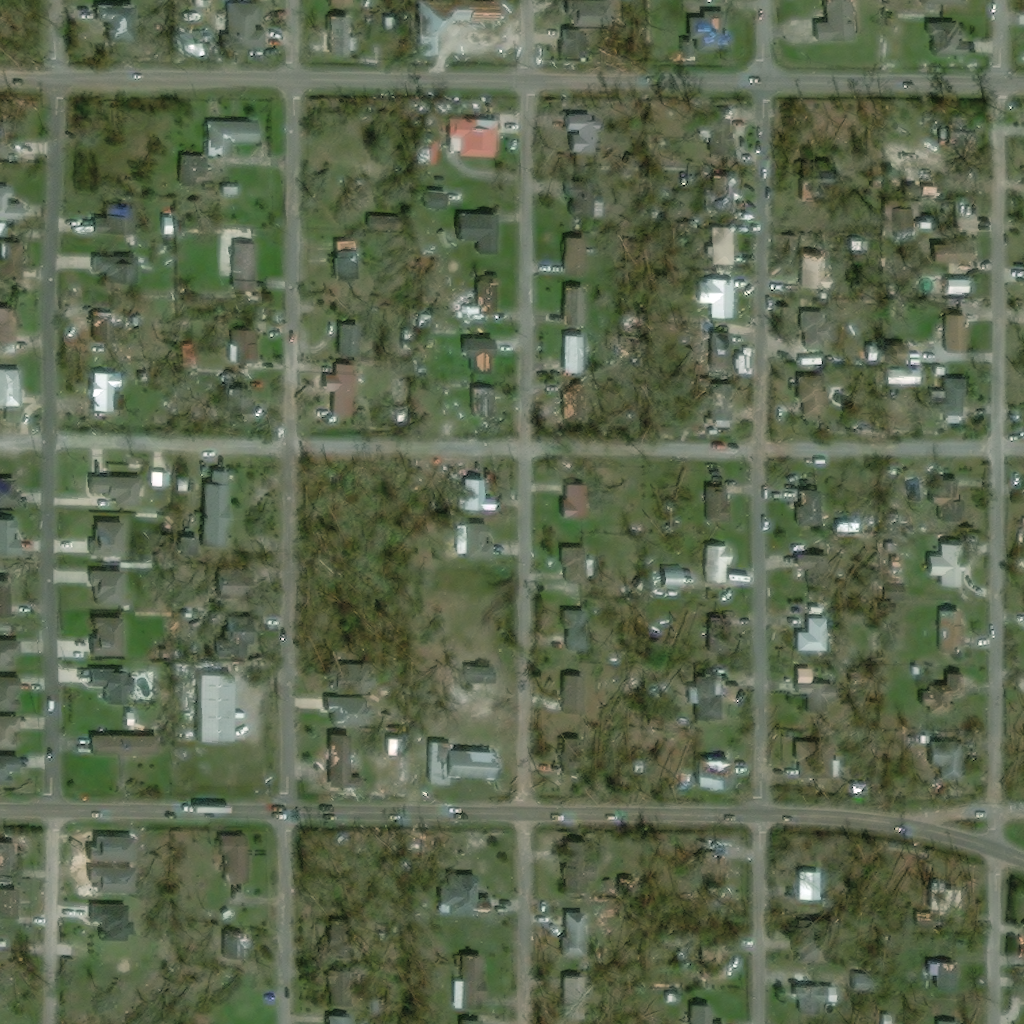major_damage: (453, 281, 497, 318), (552, 372, 586, 415), (908, 911, 937, 931)
minor_damage: (419, 0, 504, 55), (428, 741, 497, 785), (799, 483, 860, 531), (205, 119, 262, 157), (689, 11, 734, 52), (927, 479, 988, 509), (95, 0, 137, 43), (450, 956, 484, 1009), (215, 612, 256, 652), (920, 674, 962, 713), (695, 383, 733, 423), (930, 235, 978, 265), (328, 732, 353, 786), (462, 332, 494, 371), (325, 696, 364, 726), (93, 308, 123, 347), (696, 757, 732, 789), (938, 608, 964, 652), (563, 286, 588, 326), (928, 962, 960, 991), (472, 384, 495, 417), (0, 841, 21, 875), (0, 576, 16, 616), (0, 889, 25, 914), (919, 176, 937, 198)
no_damage: (195, 470, 234, 546), (196, 673, 232, 743), (445, 117, 500, 157), (793, 551, 842, 593), (443, 875, 493, 916), (90, 663, 139, 703), (457, 209, 499, 255), (91, 728, 159, 756), (796, 919, 840, 962), (323, 362, 360, 412), (562, 911, 601, 958), (228, 0, 266, 48), (654, 558, 694, 602), (794, 310, 838, 350), (90, 475, 146, 506), (88, 897, 127, 941), (814, 0, 855, 41), (926, 20, 969, 59), (791, 738, 827, 784), (928, 543, 966, 585), (217, 834, 248, 885), (564, 842, 594, 894), (327, 664, 379, 694), (796, 613, 836, 651), (456, 520, 495, 558), (697, 279, 735, 318), (796, 376, 831, 416), (792, 972, 836, 1003), (88, 372, 122, 412), (563, 541, 593, 586), (92, 615, 124, 657), (89, 570, 126, 606), (91, 520, 127, 556), (935, 375, 966, 416), (801, 252, 833, 291), (705, 544, 734, 585), (97, 207, 140, 234), (700, 944, 728, 985), (230, 324, 260, 362), (696, 676, 722, 719), (325, 968, 353, 1007), (229, 241, 257, 280), (93, 251, 140, 274), (945, 313, 970, 356), (565, 179, 594, 216), (710, 225, 736, 265), (565, 237, 591, 276), (456, 477, 487, 509), (562, 484, 590, 519), (329, 14, 351, 57), (0, 369, 23, 408), (0, 120, 24, 157), (0, 519, 26, 553), (424, 186, 463, 208), (338, 323, 361, 359), (0, 675, 23, 709), (565, 114, 586, 151), (0, 754, 22, 789), (152, 459, 176, 491), (0, 640, 22, 671), (884, 366, 924, 383), (465, 662, 497, 683), (945, 741, 962, 780), (0, 718, 21, 749), (799, 872, 822, 900), (0, 307, 16, 346), (880, 572, 907, 595), (710, 486, 727, 522), (418, 137, 439, 166), (562, 26, 580, 59), (0, 185, 16, 220), (0, 486, 24, 508), (892, 206, 911, 232), (943, 278, 972, 294), (691, 1003, 714, 1023), (799, 162, 815, 183), (676, 950, 688, 970), (164, 217, 177, 235), (681, 40, 694, 58), (326, 1014, 351, 1023), (920, 0, 965, 5), (225, 181, 239, 196), (126, 711, 135, 725), (777, 1017, 788, 1023), (537, 916, 543, 924)
